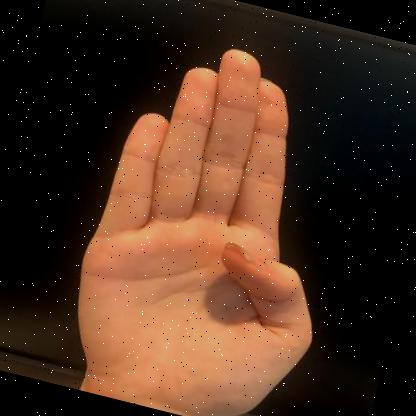B: (78, 49, 312, 416)
